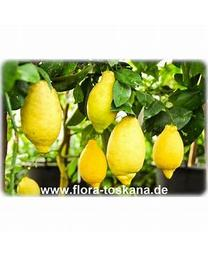lemon: (20, 78, 63, 153), (107, 114, 146, 186), (88, 71, 118, 132), (152, 124, 184, 180), (80, 138, 108, 188)
